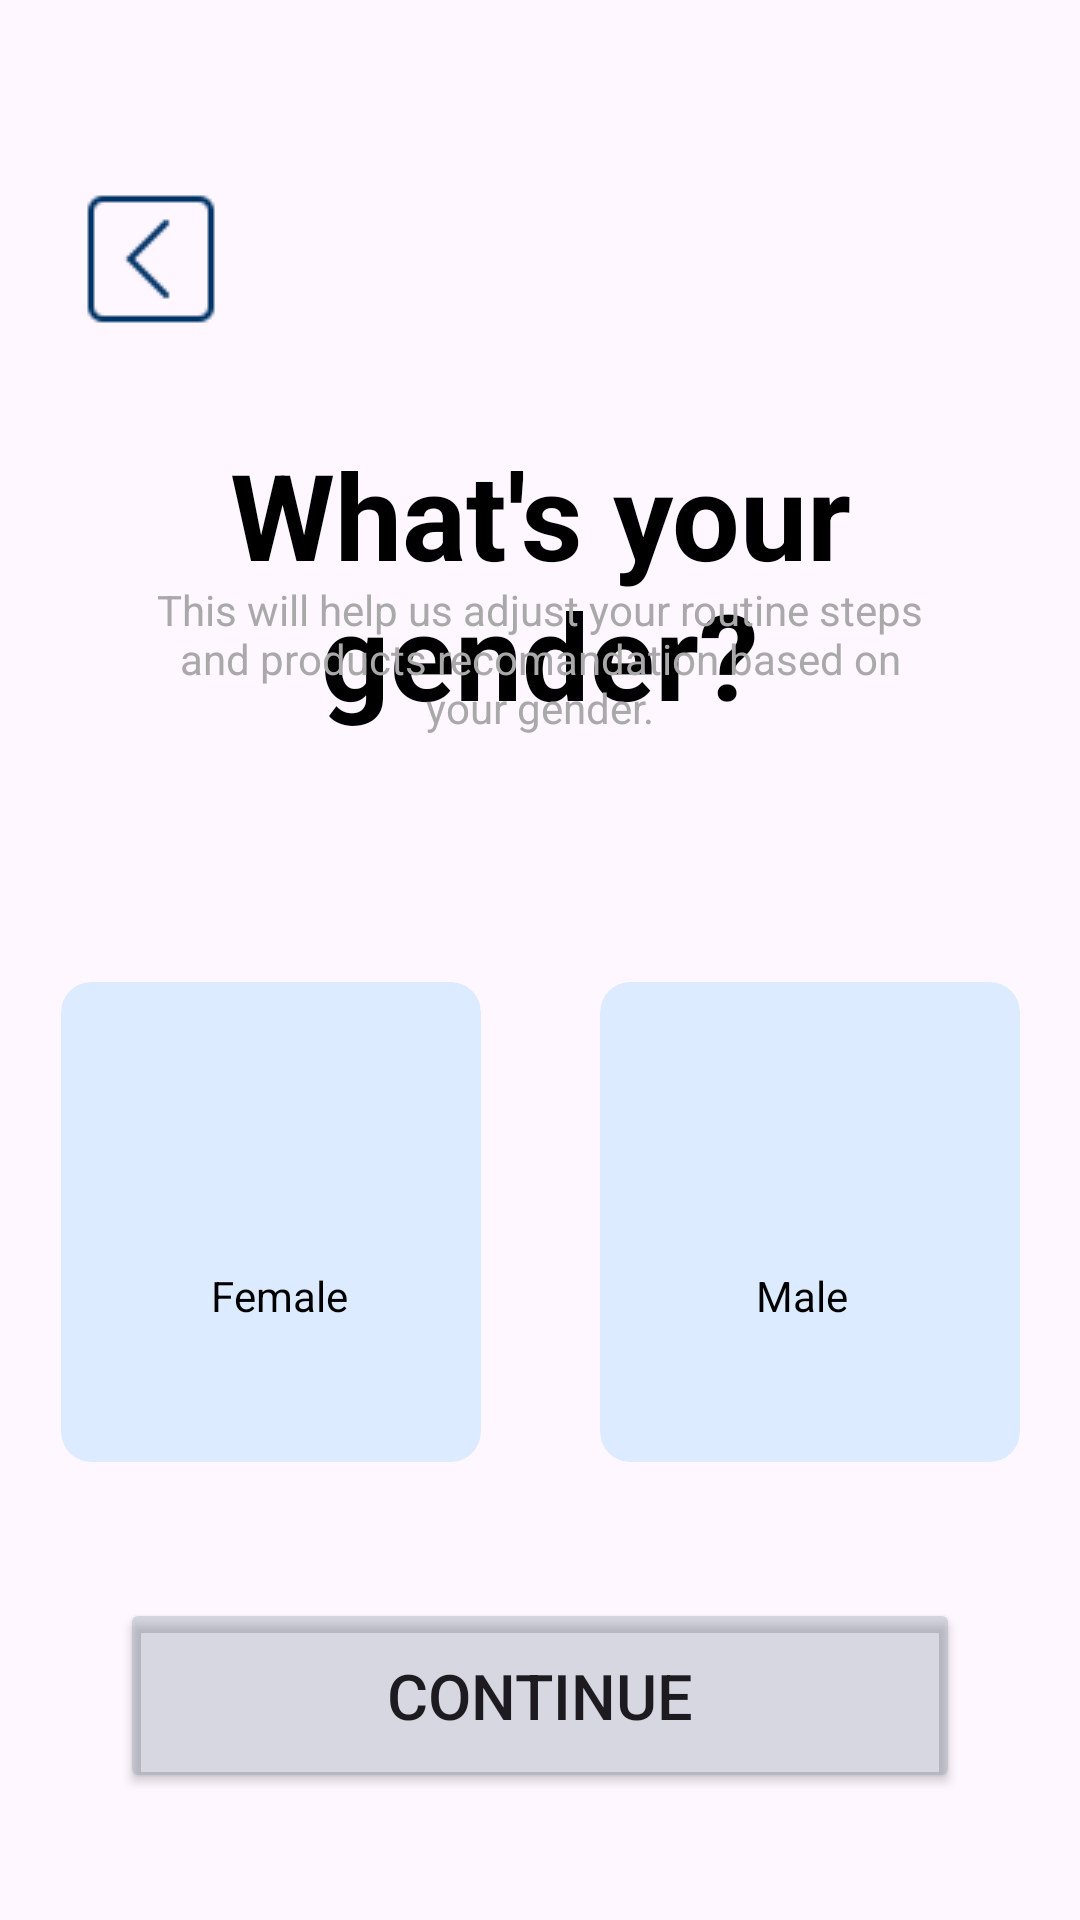

Icon bounding boxes for this 1080x1920 phone screenshot, format Rect(x1, y1, x2, y2):
back button: Rect(87, 195, 215, 323)
